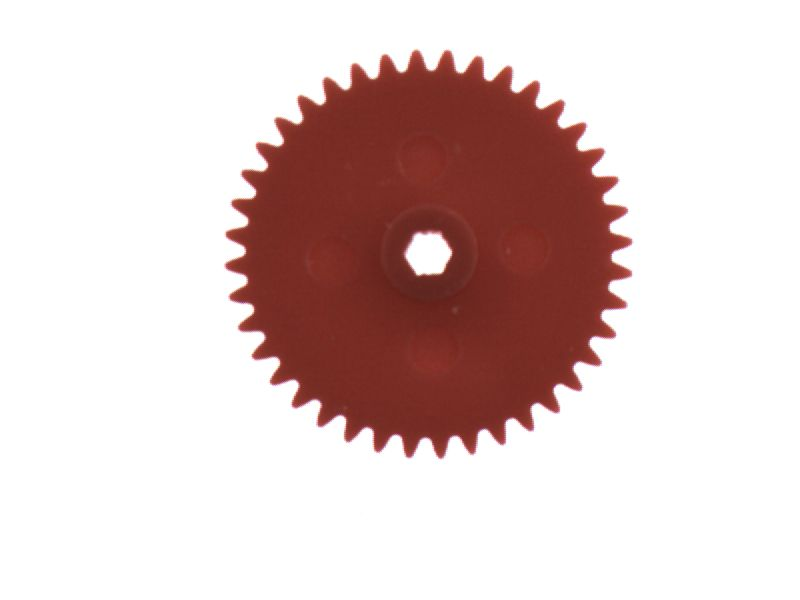good_product: (213, 40, 644, 470)
